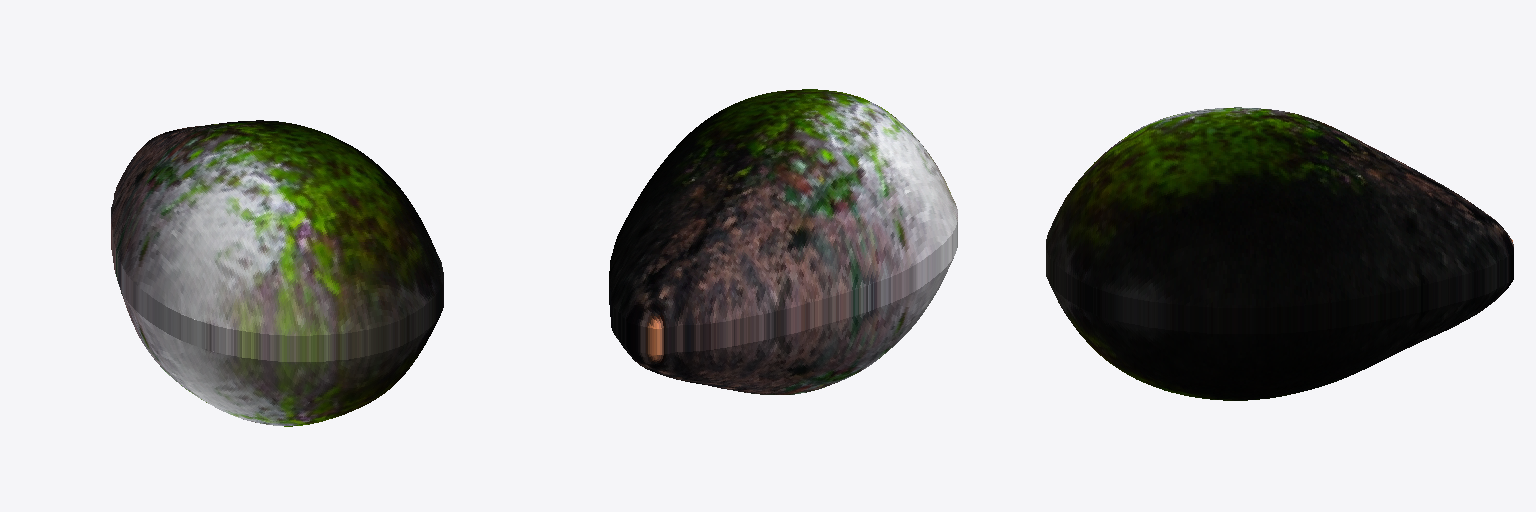
3 views of the same model, side by side, from view 1: azimuth 30°, elevation 25°; view 2: azimuth 150°, elevation 25°; view 3: azimuth 270°, elevation 25° (orthographic).
Parts seen in each view (by area): view 1: Grid; view 2: Grid; view 3: Grid.
Boxes of the visible parts, x1=… form: Grid: x1=111, y1=120, x2=443, y2=426; Grid: x1=609, y1=89, x2=957, y2=394; Grid: x1=1046, y1=107, x2=1513, y2=400.
Bounding box in the file's own units: 1.28 × 1.2 × 1.95.
1 materials, 1 textured.